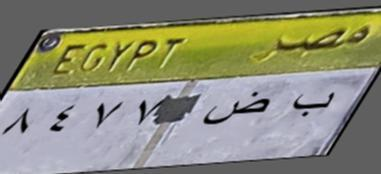4: (48, 104, 74, 138)
7: (90, 96, 124, 134), (132, 92, 164, 126)
8: (0, 108, 32, 140)
baa: (290, 82, 336, 120)
daad: (200, 87, 270, 128)
